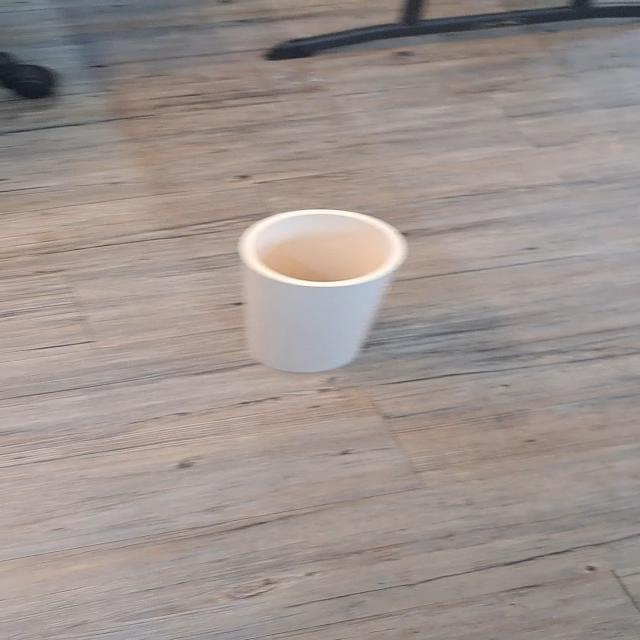CORAL: (229, 200, 409, 382)
